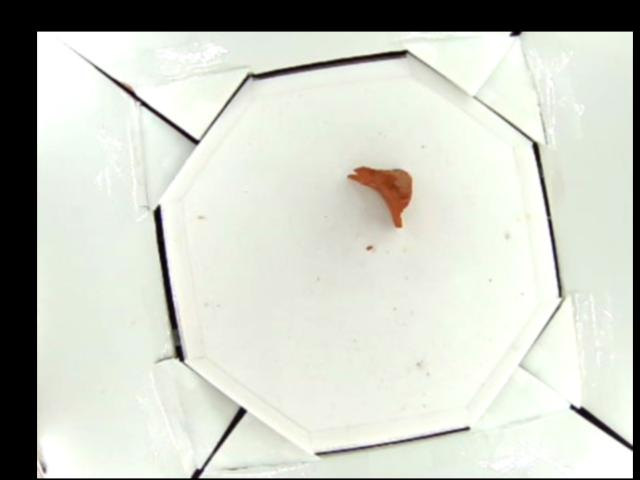Brisk: (344, 164, 412, 228)
